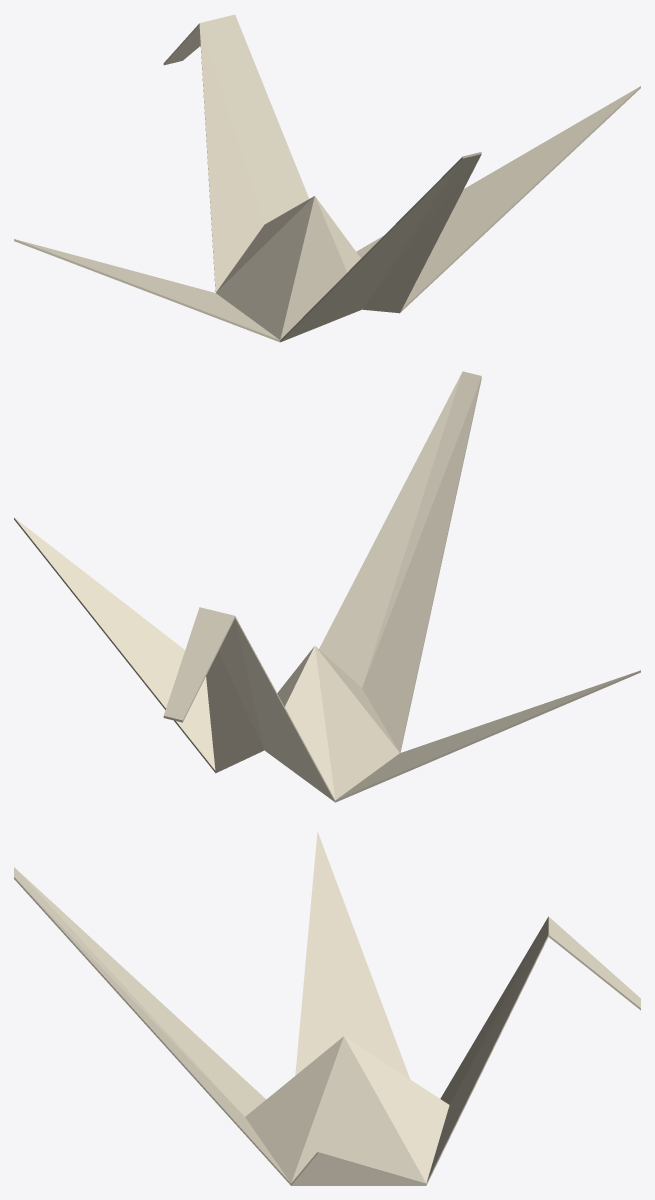
The model's file is NEW_RECOVERY_048_LOD1.glb.
3 views of the same model, one above another, from view 1: azimuth 30°, elevation 25°; view 2: azimuth 150°, elevation 25°; view 3: azimuth 270°, elevation 25° (orthographic). The views are drawn at different scales.
Visible parts, largest first — view 1: Origami_crane; view 2: Origami_crane; view 3: Origami_crane.
Part boxes in pixels (x1,y1,x2,y2): Origami_crane: [14, 14, 640, 342]; Origami_crane: [14, 371, 640, 802]; Origami_crane: [14, 831, 640, 1185].
Bounding box in the file's own units: 2.3 × 0.9482 × 1.9.
